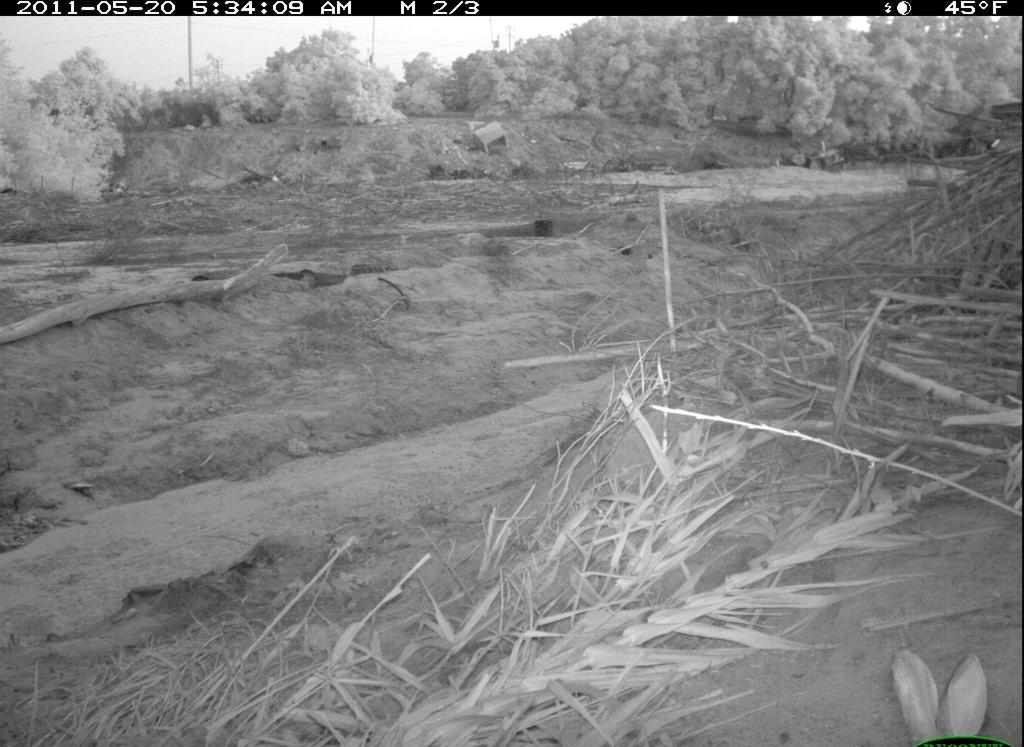rabbit: (882, 637, 994, 747)
